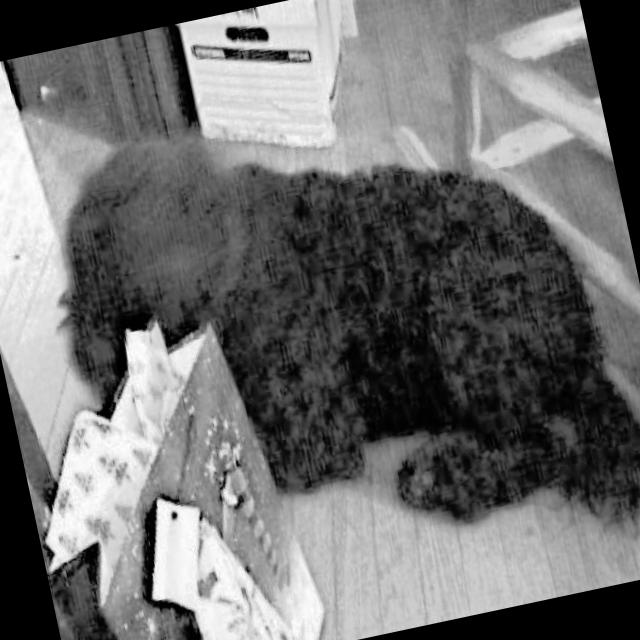Dog: (13, 31, 640, 640)
